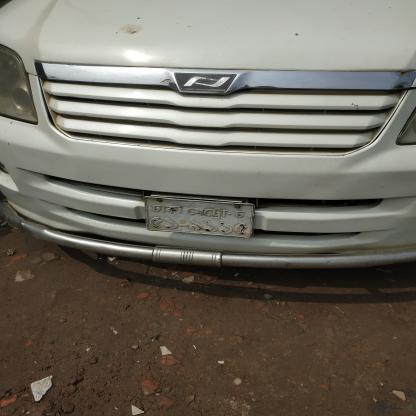license_plate: (127, 175, 282, 253)
